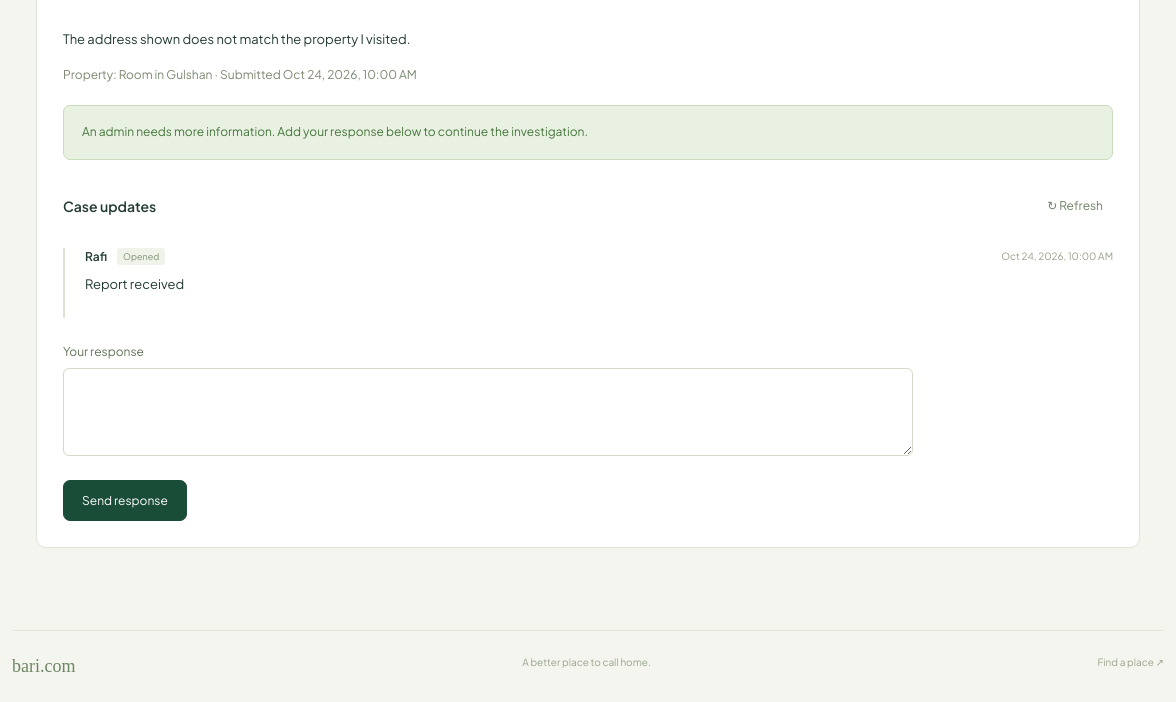
submits additional information and refreshes the shared timeline
(page scrolled)
Type "I visited the property yesterday." into the text box labelled "Your response" at x=488, y=412, box [63,368,913,456]
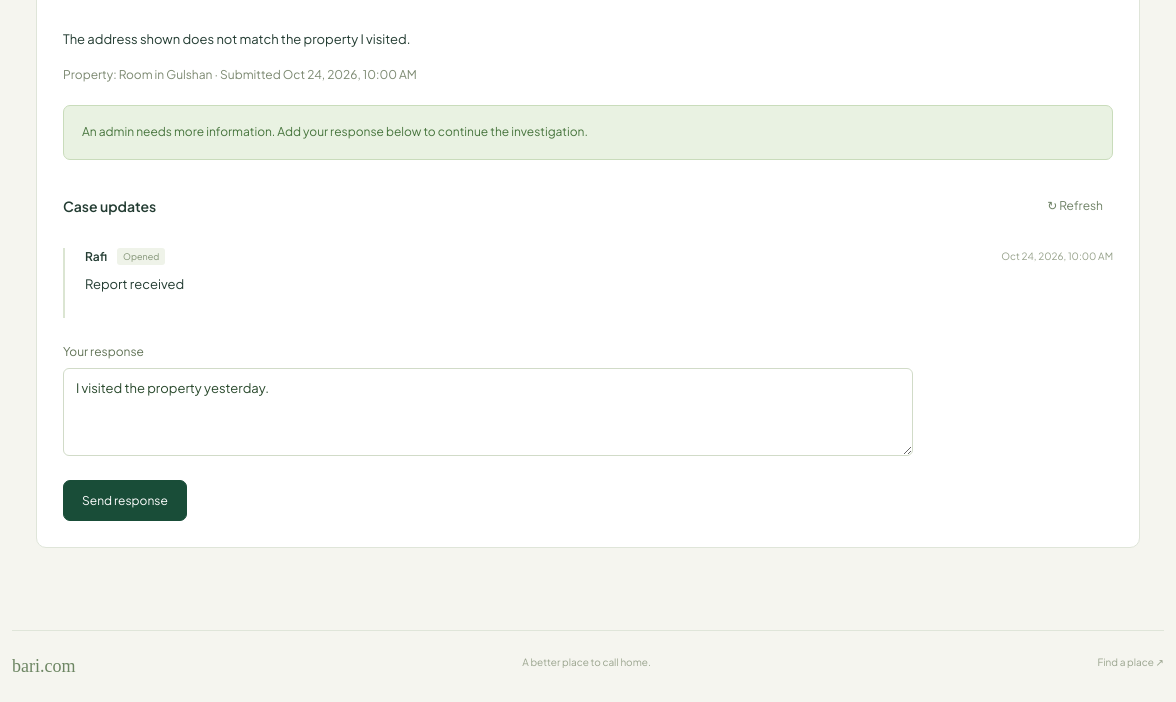
Click the button "Send response" at x=125, y=501, box [63,480,187,521]
(page scrolled)
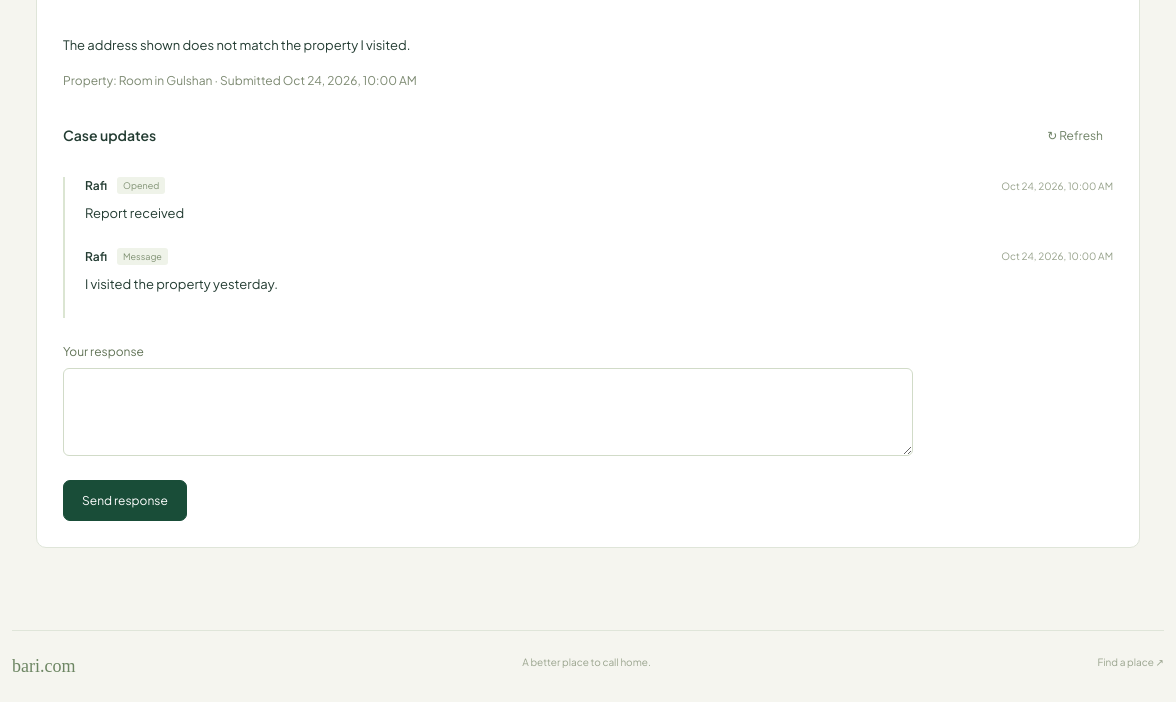
Result: the text "I visited the property yesterday." is shown at [85,276,278,292]
